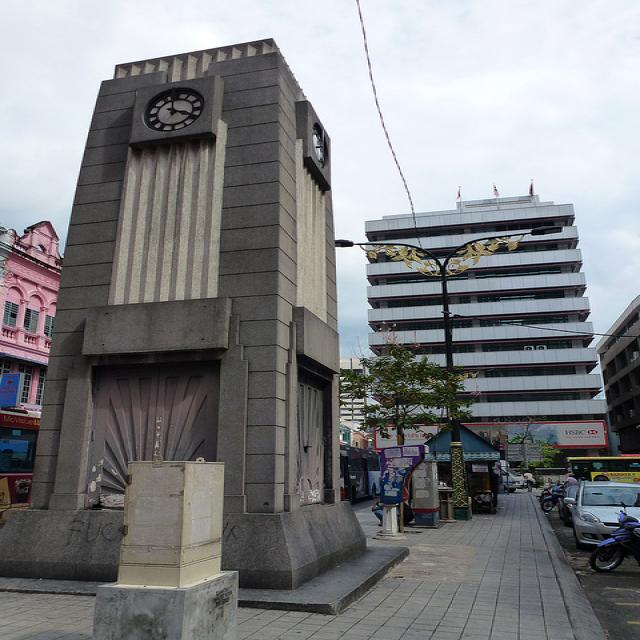motor: (585, 498, 640, 577), (542, 478, 567, 512)
